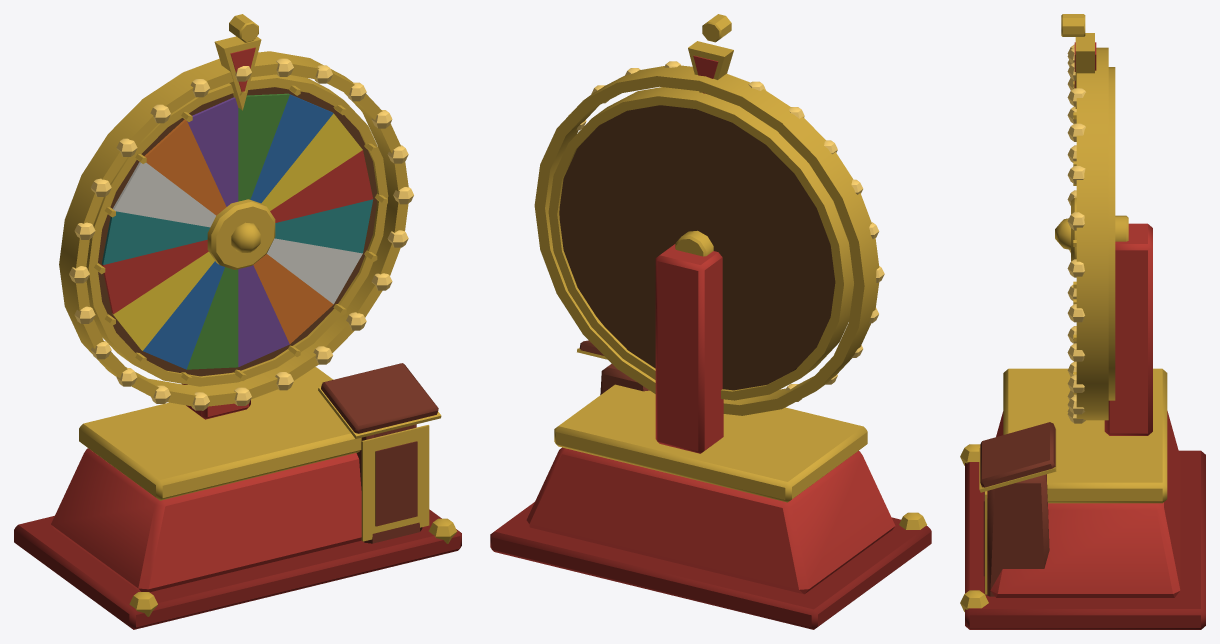
File: 403_roue_fortune.fbx
The picture shows the model from 3 angles, left to right: view 1: azimuth 30°, elevation 25°; view 2: azimuth 150°, elevation 25°; view 3: azimuth 270°, elevation 25°; orthographic projection.
Parts seen in each view (by area): view 1: Roue, Socle, Lumiere, Pupitre, Pointeur; view 2: Socle, Roue, Lumiere, Pointeur, Pupitre; view 3: Socle, Lumiere, Pupitre, Roue, Pointeur.
Boxes of the visible parts, <box> form: Roue: <box>86,74,388,386</box>; Socle: <box>14,367,461,629</box>; Lumiere: <box>59,51,413,410</box>; Pupitre: <box>318,363,441,543</box>; Pointeur: <box>214,14,261,110</box>; Socle: <box>490,230,931,629</box>; Roue: <box>548,87,853,400</box>; Lumiere: <box>534,61,884,415</box>; Pointeur: <box>688,14,733,93</box>; Pupitre: <box>577,340,649,394</box>; Socle: <box>960,215,1205,629</box>; Lumiere: <box>1067,44,1108,423</box>; Pupitre: <box>979,422,1056,596</box>; Roue: <box>1055,67,1115,400</box>; Pointeur: <box>1061,14,1096,108</box>.
Size of the model in its own units: 2.24 by 3.36 by 1.4.
1 material, 1 textured.
